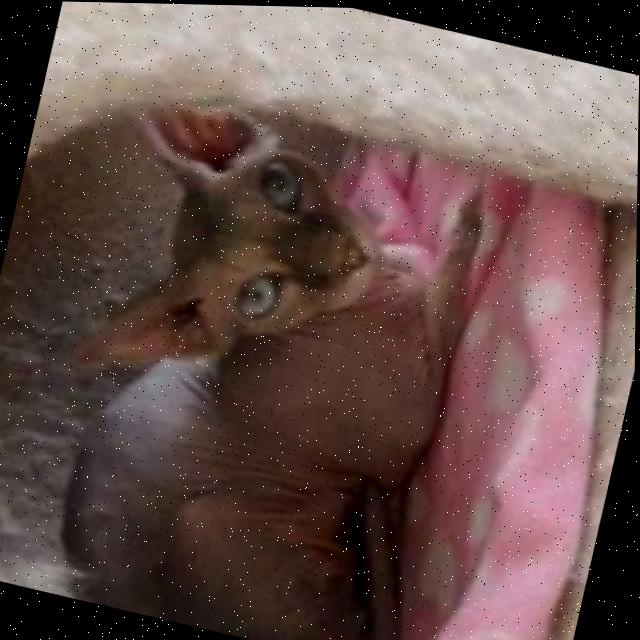Sphynx: (18, 79, 502, 640)
